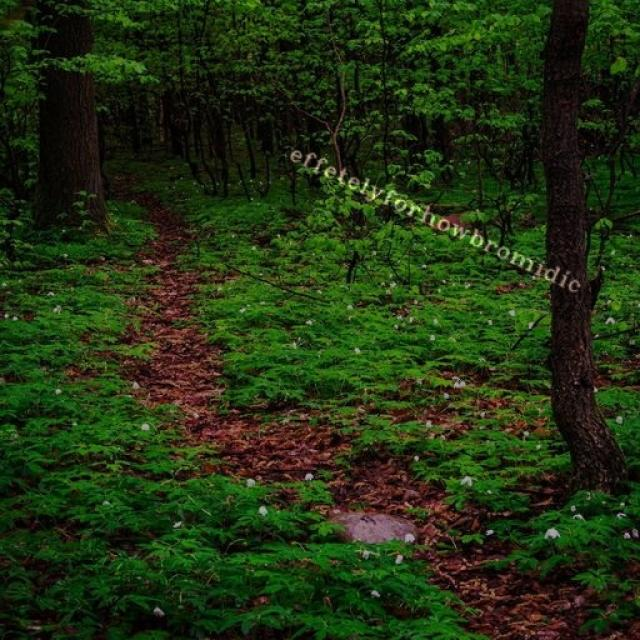watermark: (281, 140, 594, 297)
